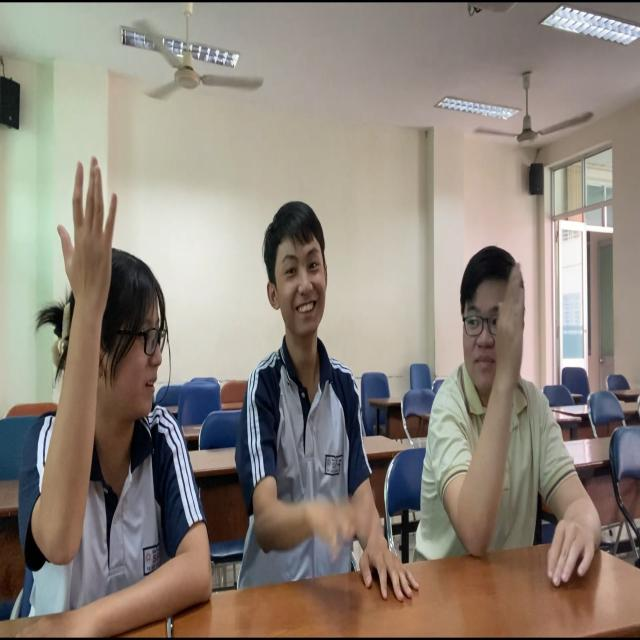raise_hand: (8, 145, 223, 634), (408, 236, 628, 597)
